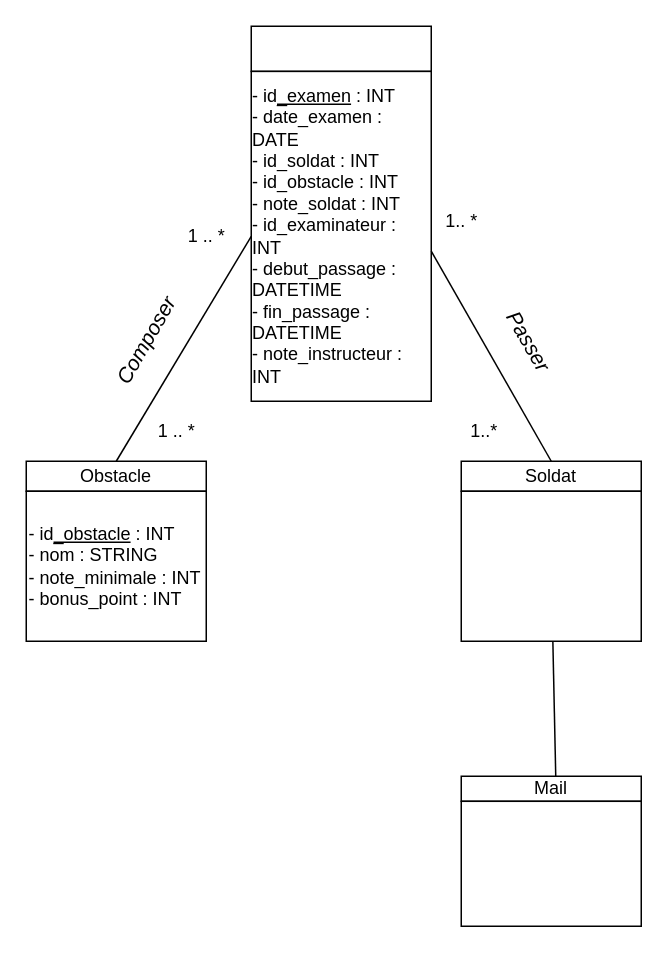
Image size: 668x953. Some labels were removed from this diagram. The shapes that lost their labels are listed below. From the top down, each one's box as (x1, y1, x2, y2) in pixels, then its label:
(250, 25, 431, 71): Examen
(460, 490, 641, 641): - id _soldat : INT - nom : STRING - grade : STRING
(460, 800, 641, 926): - id _mail : INT - id_soldat : INT - mail : STRING
